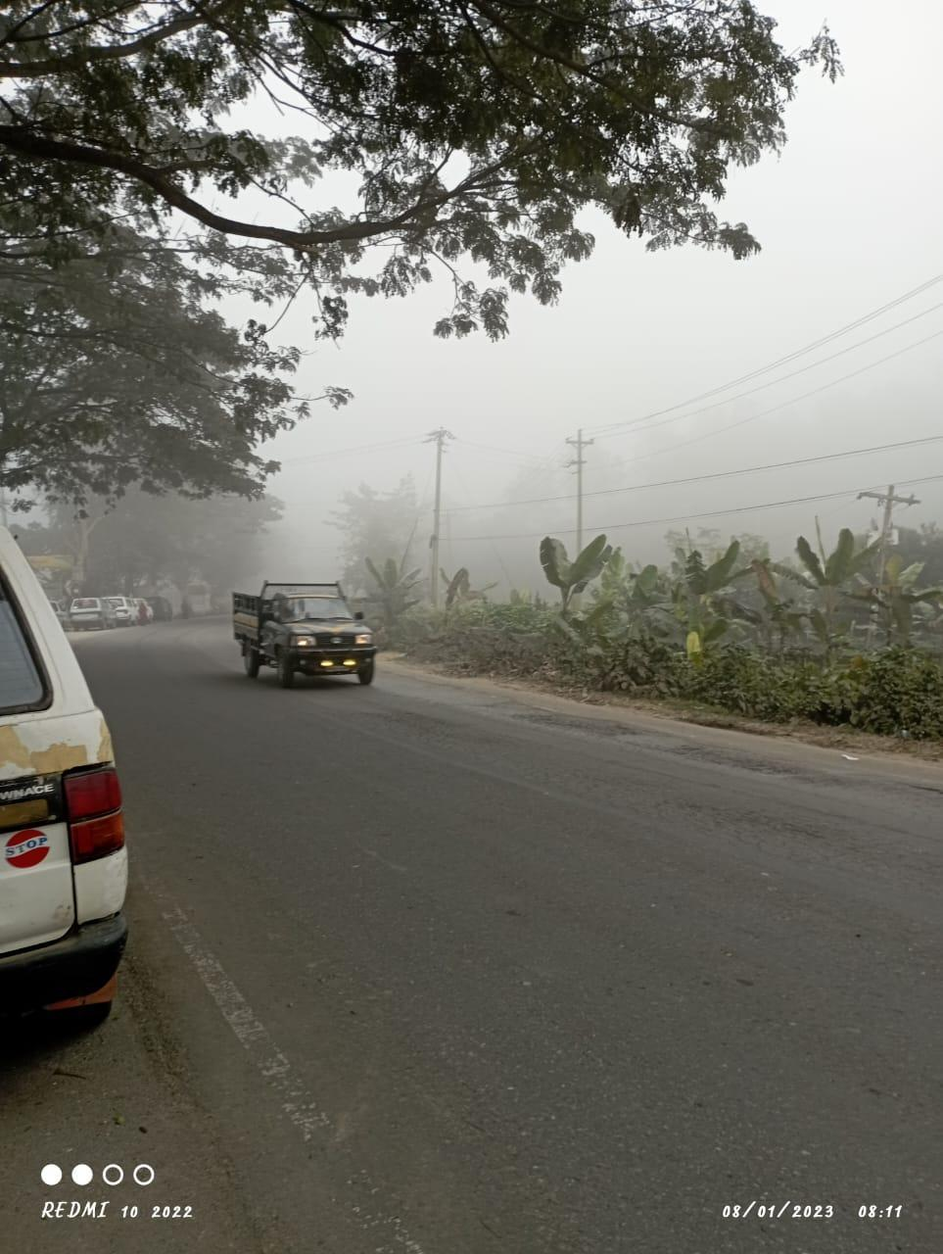Car: (64, 587, 116, 626)
Truck: (223, 571, 388, 693)
